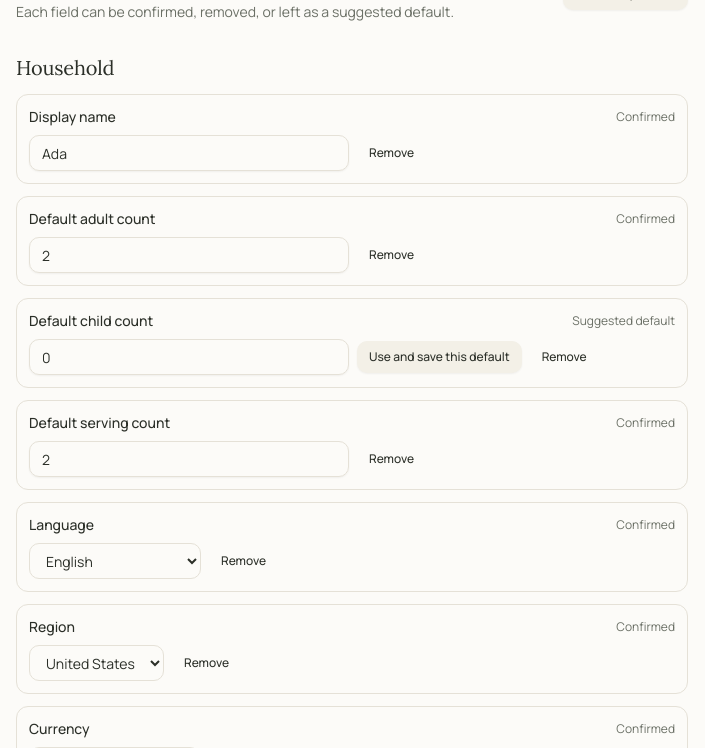
Test: ProfileDataPage › cancel restores the household section to the last-loaded snapshot without submitting
Replace the text in the field with test id "profile-data-input-displayName" with "Temporary": (189, 153) [29, 135, 349, 171]
(page scrolled)
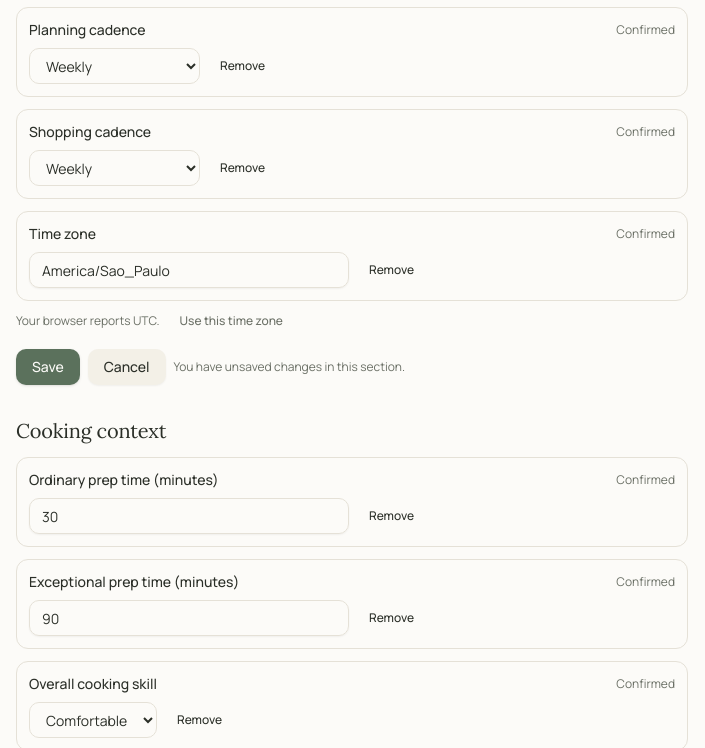
Click the button with test id "profile-data-household-cancel": (127, 367) [88, 349, 166, 385]
(page scrolled)
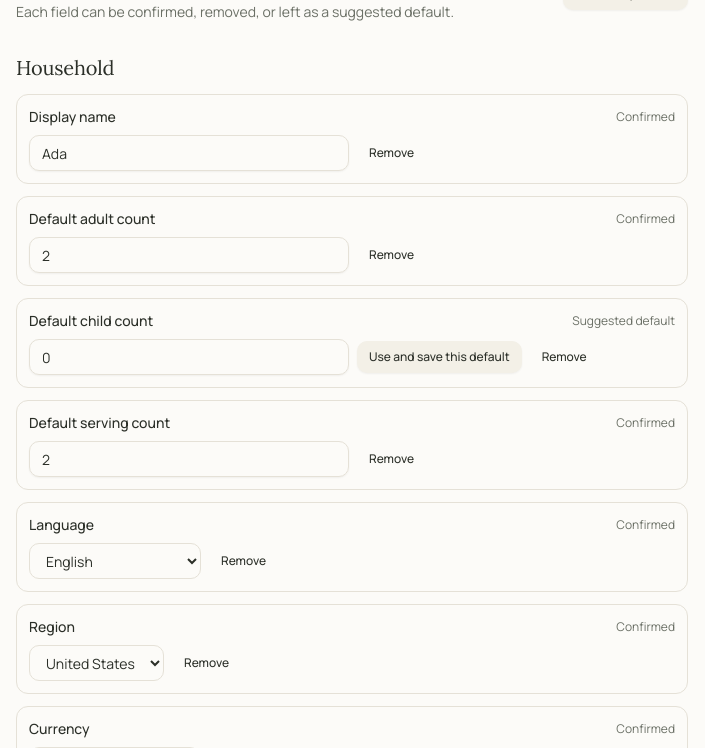
expect the field with test id "profile-data-input-displayName" holds "Ada": met, box [29, 135, 349, 171]
